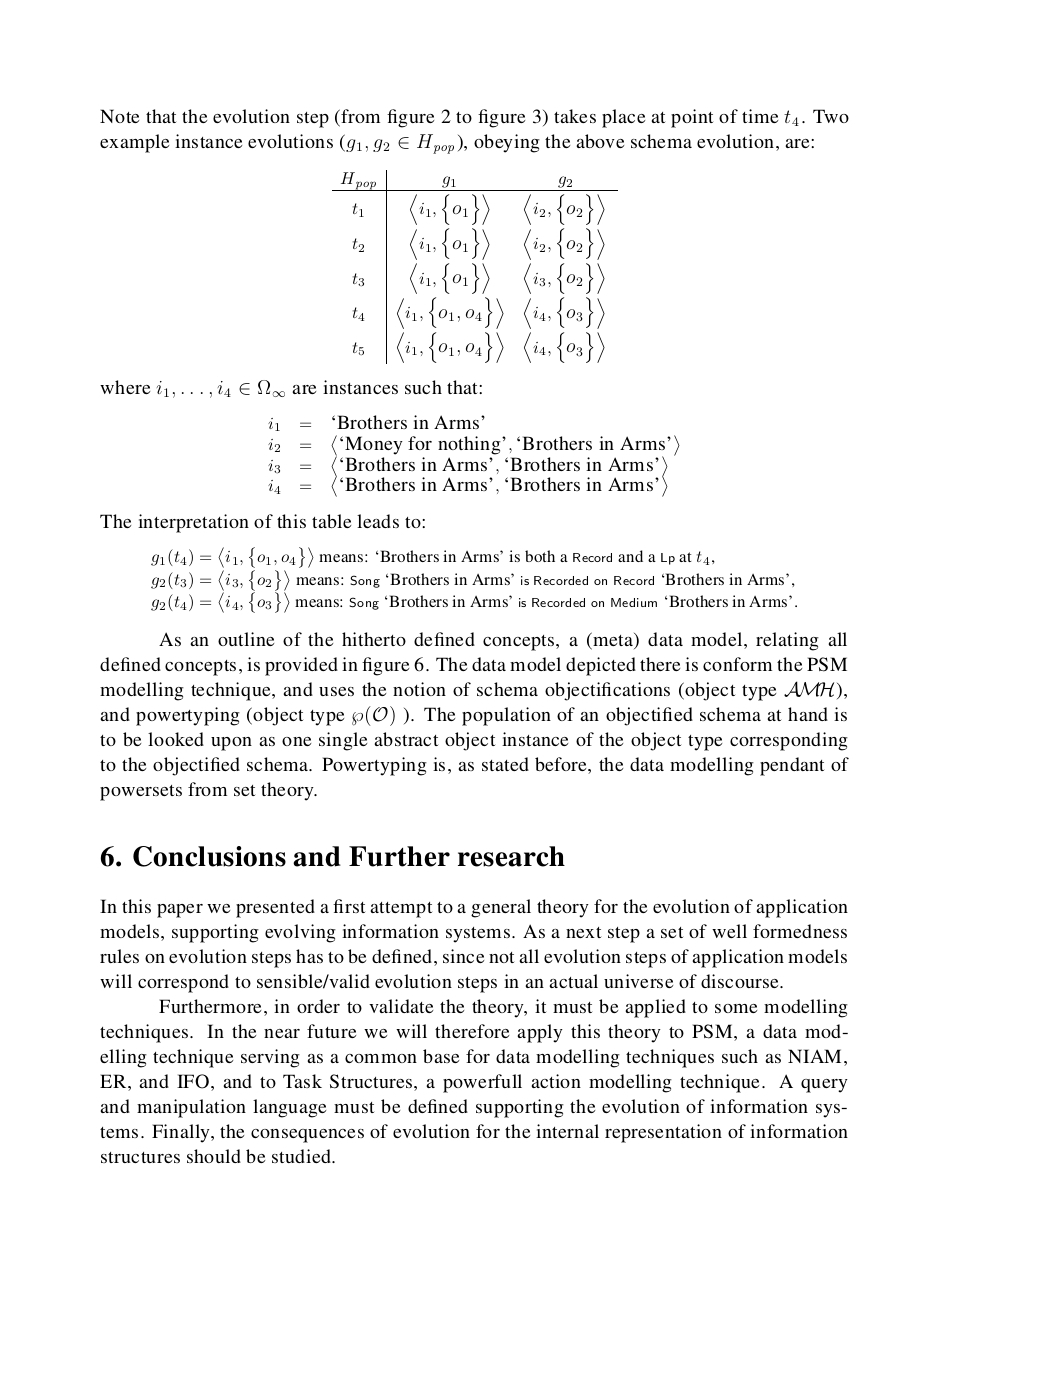Table: (332, 169, 617, 364)
formula: (150, 592, 796, 612), (150, 569, 794, 590), (150, 546, 714, 568)
